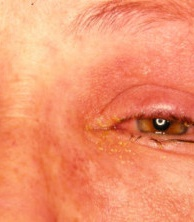SJS-TEN: (73, 98, 150, 169)
